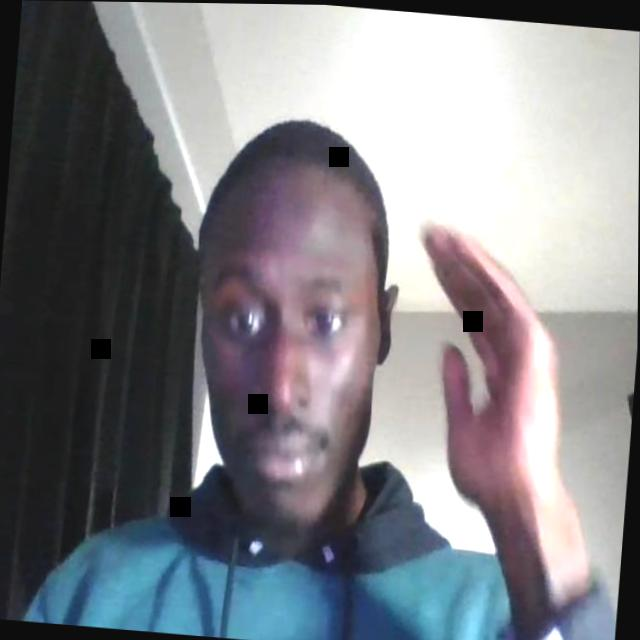NO-Mask: (183, 198, 386, 545)
